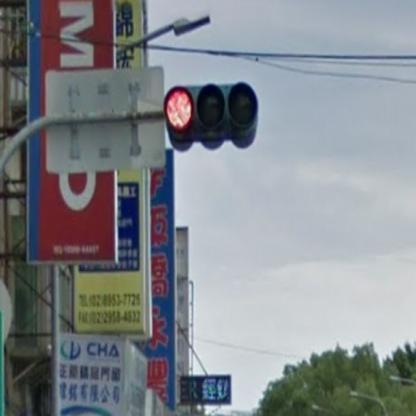Red Light: (163, 84, 258, 140)
